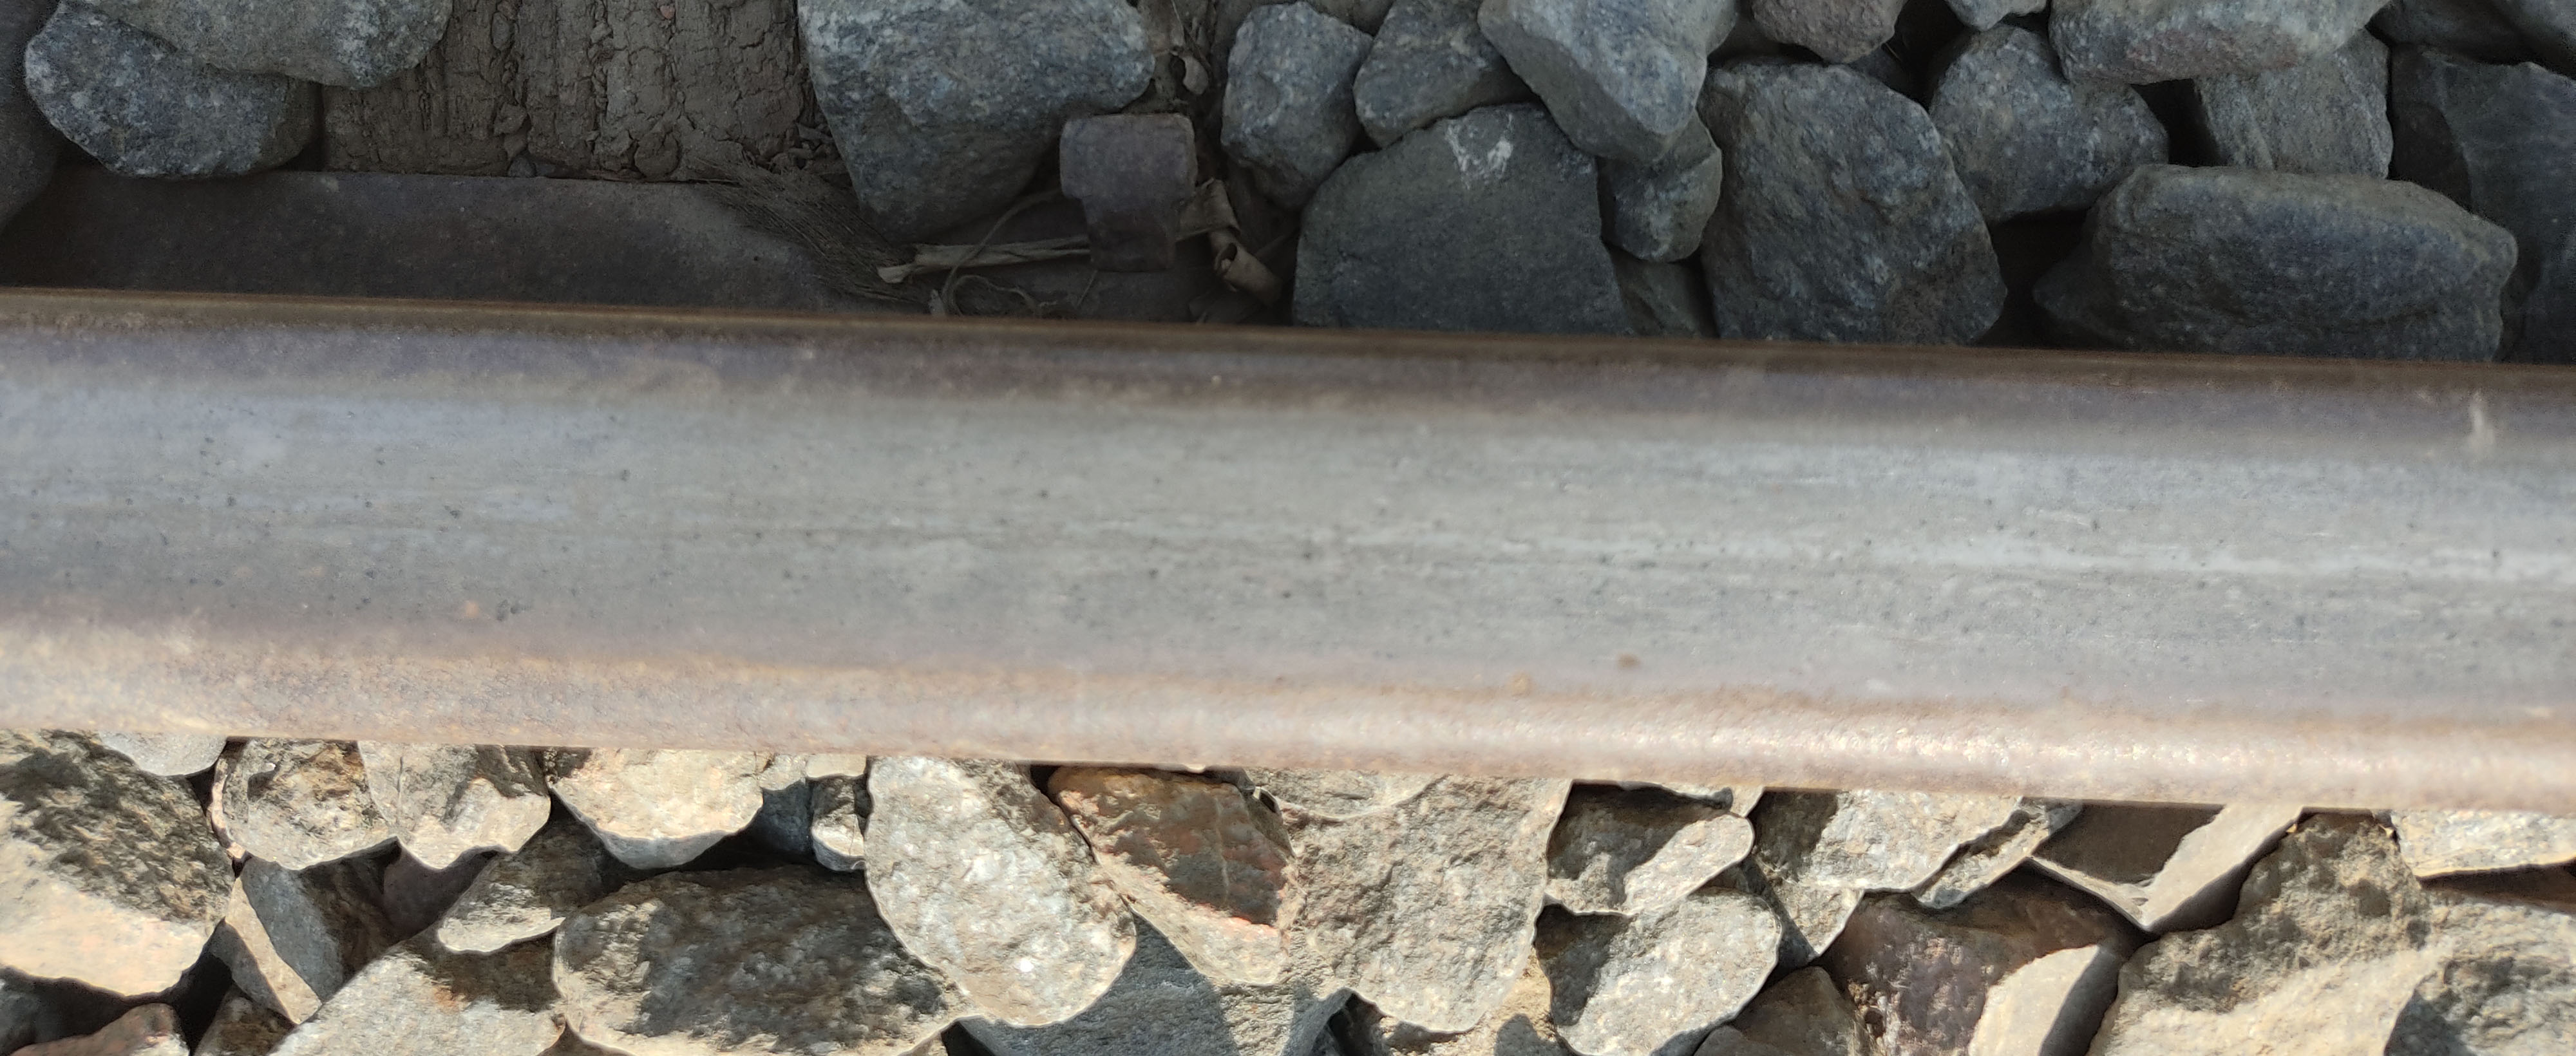error3: (156, 414, 470, 627)
